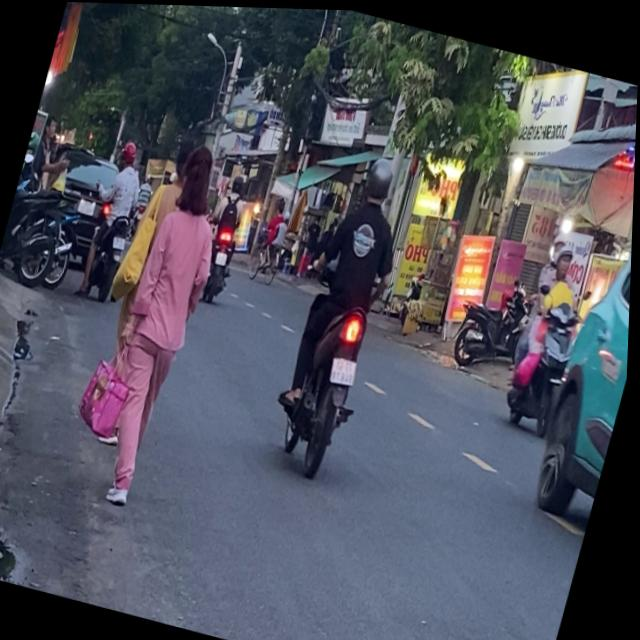helmet: (362, 150, 399, 204), (553, 239, 578, 275), (118, 136, 141, 167)
licenseplate: (263, 139, 425, 481), (495, 230, 602, 436), (76, 132, 157, 304)
nohelmet: (330, 352, 361, 384)
